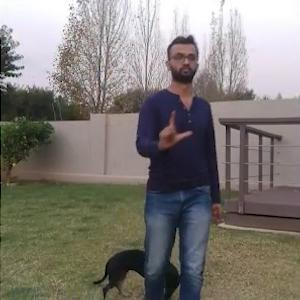land_hand: (156, 104, 194, 151)
